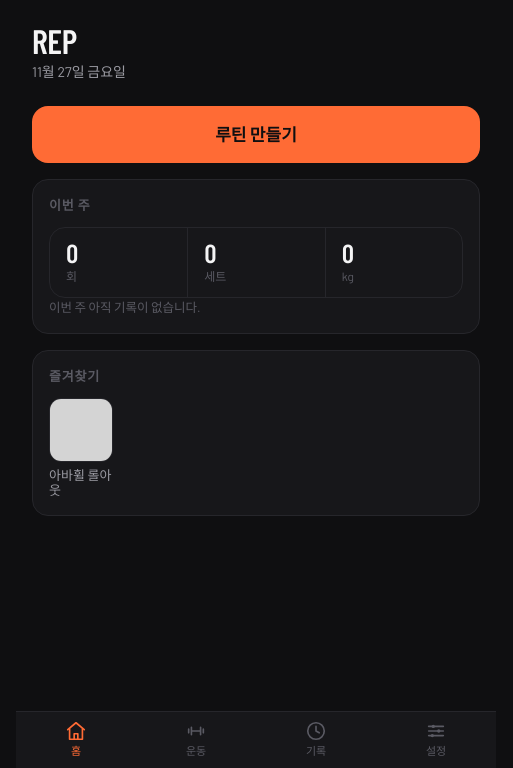
Test: navigation (jsdom) — 뒤로가기 & 화면 이동 › 홈(즐겨찾기) → 운동 상세 → 뒤로가기: 홈으로 돌아간다 (운동 탭이 아님)
The image size is (513, 768).
Later steps or results of the test are not shown.
Click the link "아바휠 롤아웃": (85, 448) [49,398,121,499]
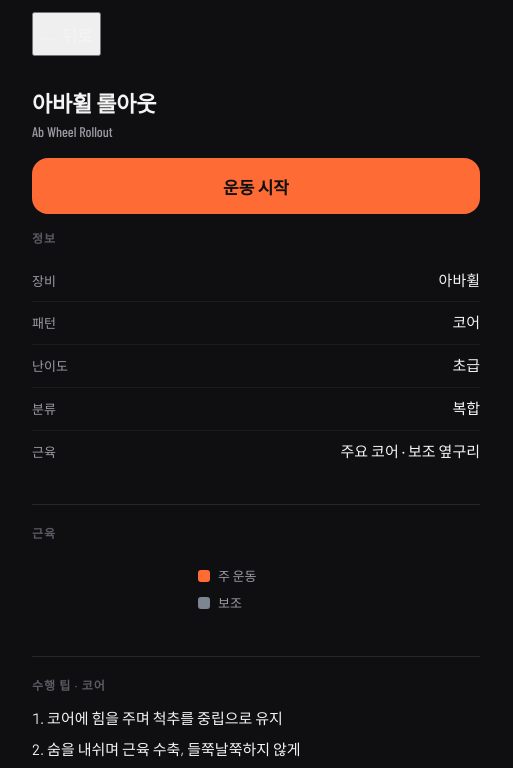
Expected: the button "← 뒤로" is shown, [32,12,101,56]
